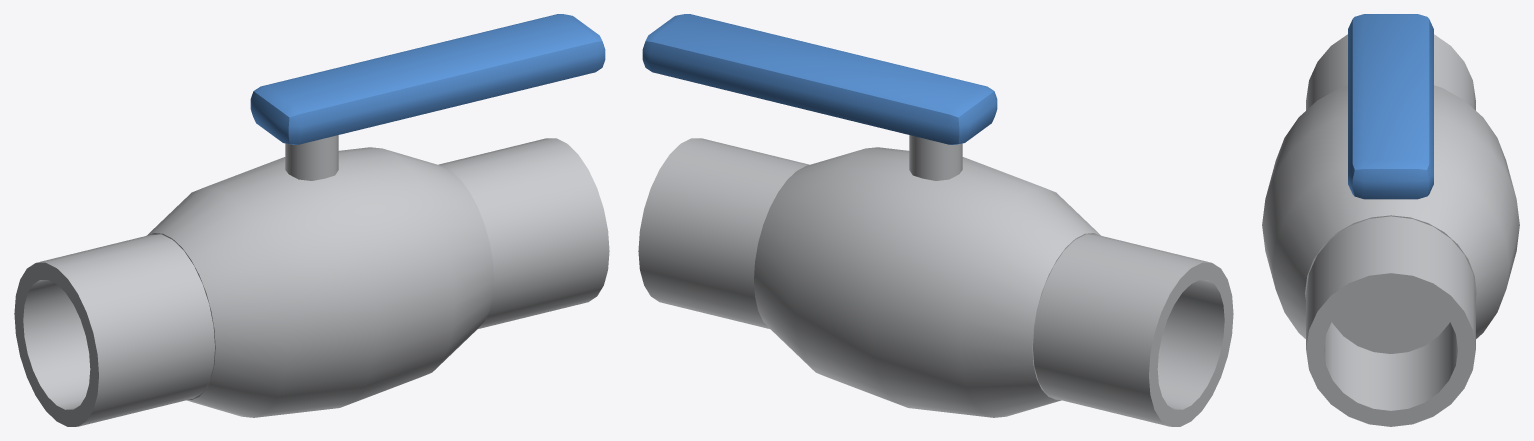
File: HID-REG-002.glb
3 views of the same model, side by side, from view 1: azimuth 30°, elevation 25°; view 2: azimuth 150°, elevation 25°; view 3: azimuth 270°, elevation 25° (orthographic).
Visible parts, largest first — view 1: HID-REG-002_esfera, HID-REG-002_b1, HID-REG-002_alavanca, HID-REG-002_b2, HID-REG-002_haste; view 2: HID-REG-002_esfera, HID-REG-002_b1, HID-REG-002_alavanca, HID-REG-002_b2, HID-REG-002_haste; view 3: HID-REG-002_esfera, HID-REG-002_b2, HID-REG-002_alavanca, HID-REG-002_b1.
Boxes of the visible parts, x1=… form: HID-REG-002_esfera: x1=146, y1=147, x2=493, y2=417; HID-REG-002_b1: x1=14, y1=234, x2=214, y2=426; HID-REG-002_alavanca: x1=250, y1=14, x2=605, y2=144; HID-REG-002_b2: x1=438, y1=138, x2=609, y2=328; HID-REG-002_haste: x1=285, y1=135, x2=338, y2=180; HID-REG-002_esfera: x1=754, y1=147, x2=1100, y2=417; HID-REG-002_b1: x1=1033, y1=234, x2=1233, y2=426; HID-REG-002_alavanca: x1=642, y1=14, x2=997, y2=144; HID-REG-002_b2: x1=638, y1=138, x2=809, y2=328; HID-REG-002_haste: x1=909, y1=135, x2=962, y2=180; HID-REG-002_esfera: x1=1262, y1=85, x2=1519, y2=353; HID-REG-002_b2: x1=1306, y1=216, x2=1475, y2=426; HID-REG-002_alavanca: x1=1348, y1=14, x2=1433, y2=199; HID-REG-002_b1: x1=1306, y1=34, x2=1475, y2=110.
Size of the model in its own units: 0.115 by 0.064 by 0.048.
